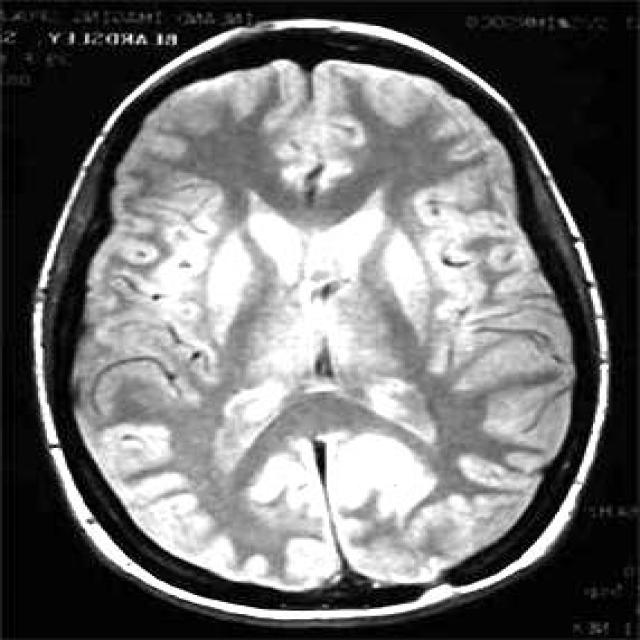Tumor-Cell: (249, 429, 424, 529)
